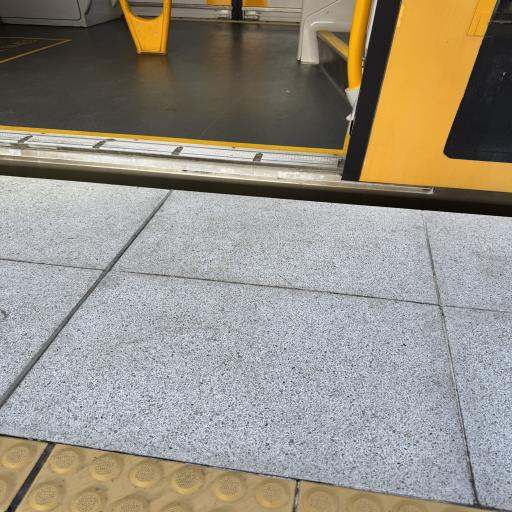gap: (0, 162, 512, 220)
